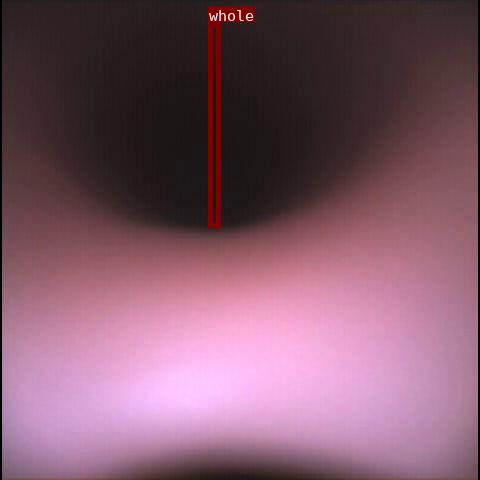whole: (208, 22, 220, 227)
